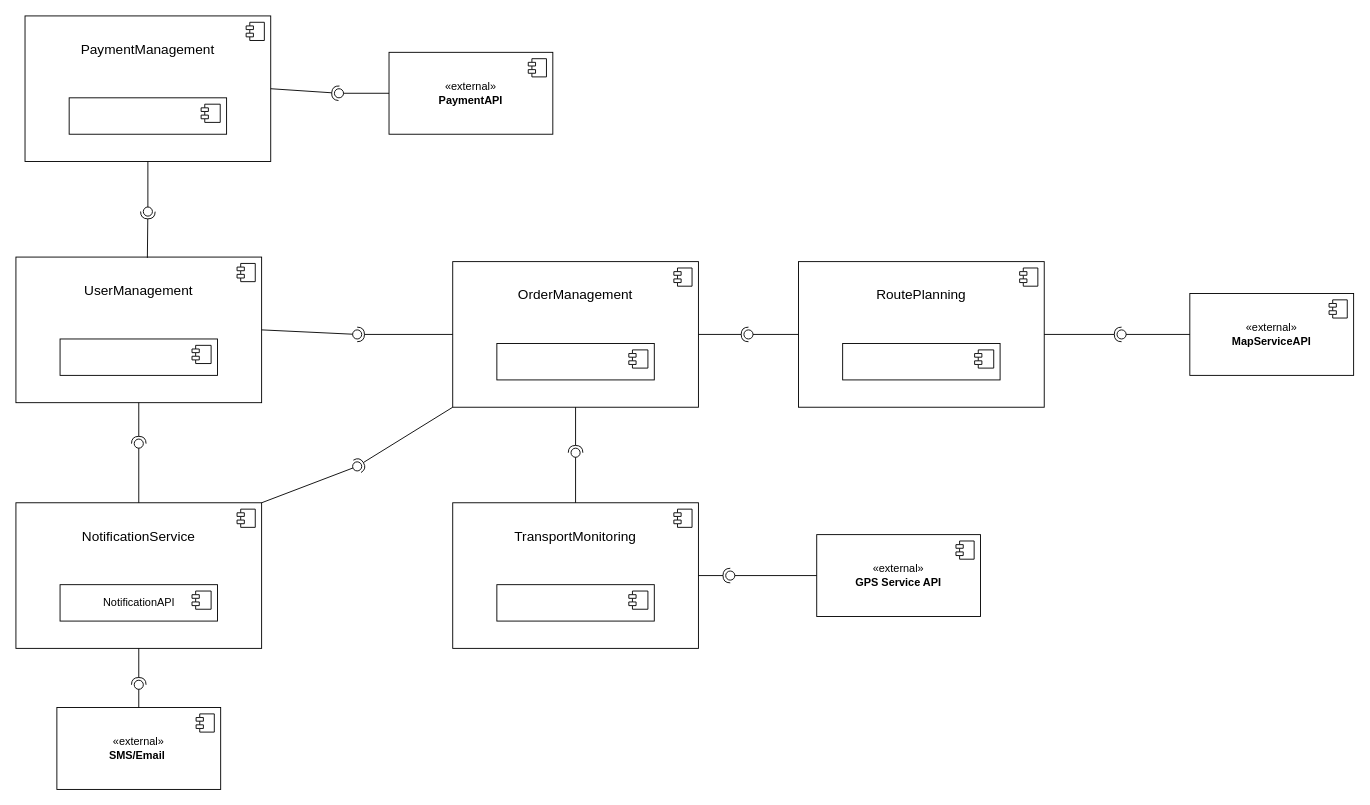
This 1370x805 diagram has some shape labels left out. The shapes that lost their labels are listed below. From the top down, each one's centre as x and y in pixels, then its label:
[147,115]: PaymentAPI
[138,356]: UserManagementAPI
[575,361]: OrderManagementAPI
[921,361]: RoutePlanningAPI
[575,602]: MonitoringAPI
